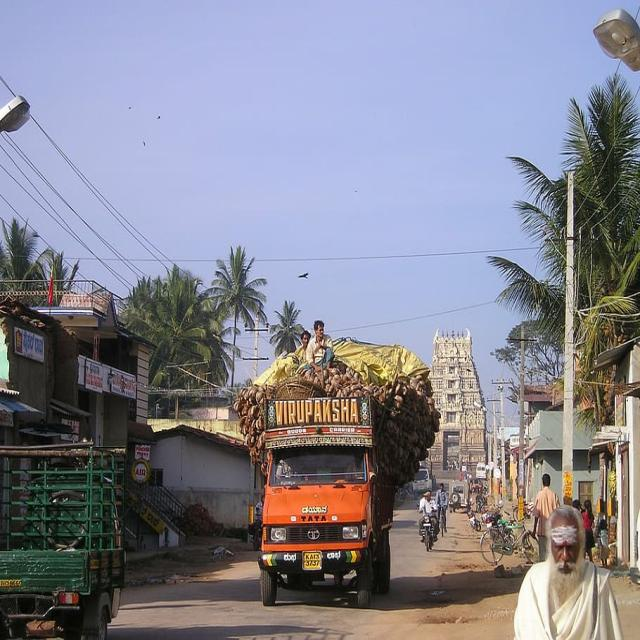autorickshaw: (0, 443, 125, 639)
truck: (235, 320, 439, 608)
